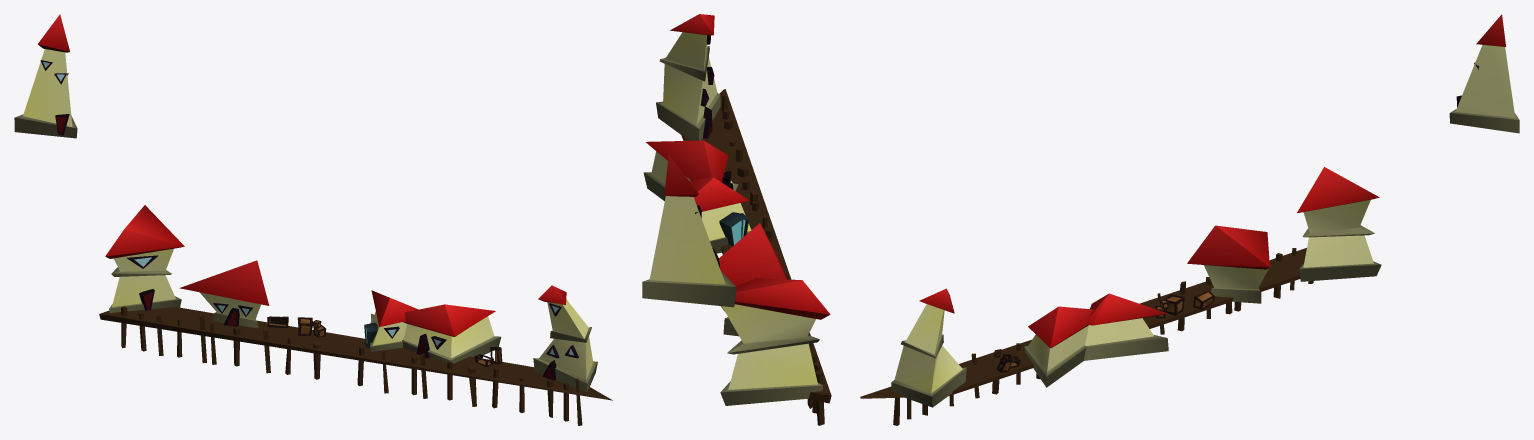
File: e_piertown.fbx
The picture shows the model from 3 angles, left to right: view 1: azimuth 30°, elevation 25°; view 2: azimuth 150°, elevation 25°; view 3: azimuth 270°, elevation 25°; orthographic projection. The views are drawn at different scales.
Parts seen in each view (by area): view 1: e_piertown; view 2: e_piertown; view 3: e_piertown.
Boxes of the visible parts, x1=… form: e_piertown: x1=14, y1=14, x2=612, y2=425; e_piertown: x1=642, y1=14, x2=831, y2=425; e_piertown: x1=860, y1=14, x2=1519, y2=425.
Bounding box in the file's own units: 41.12 × 32.45 × 67.57.
